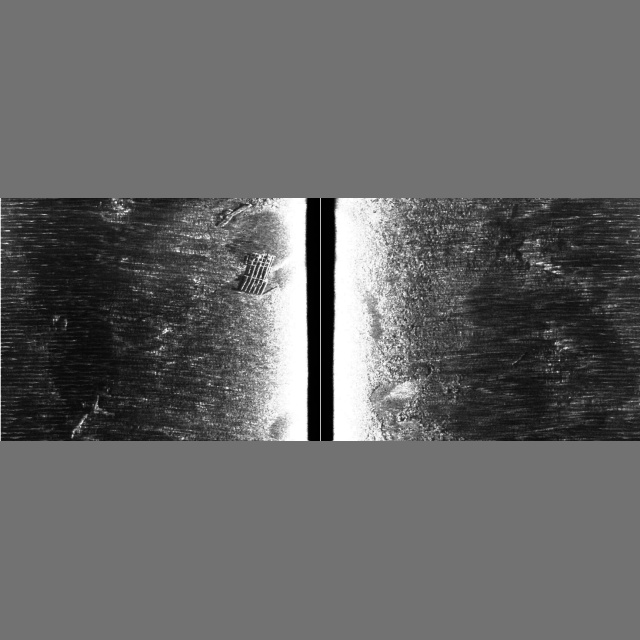Shipwreck: (49, 202, 277, 439)
